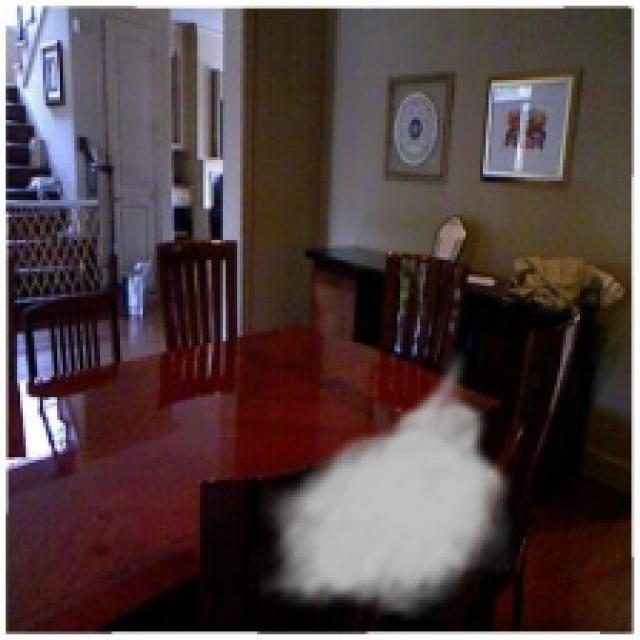Smoke: (257, 346, 517, 620)
